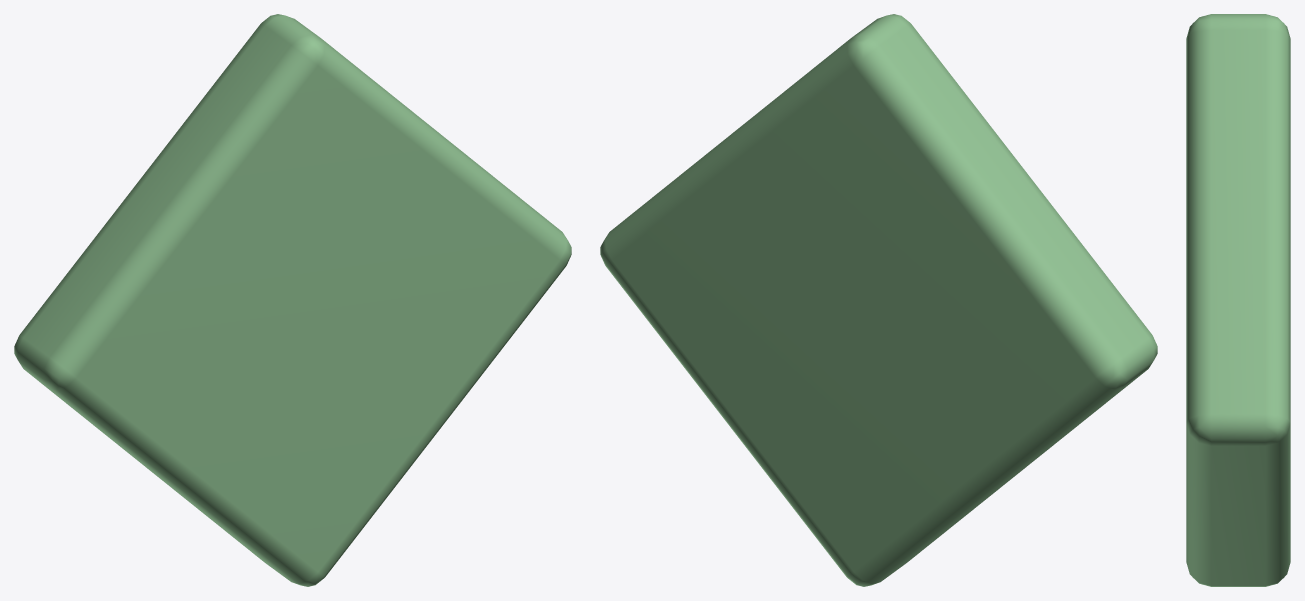
Rendered from shape-rhombus-green.glb.
3 renders of one model, left to right at view 1: azimuth 30°, elevation 25°; view 2: azimuth 150°, elevation 25°; view 3: azimuth 270°, elevation 25°, orthographic. The views are drawn at different scales.
Visible parts, largest first — view 1: solid rhombus; view 2: solid rhombus; view 3: solid rhombus.
Part boxes in pixels (x1,y1,x2,y2): solid rhombus: (14,14,571,586); solid rhombus: (600,14,1157,586); solid rhombus: (1186,14,1290,586).
Size of the model in its own units: 1.5 by 1.5 by 0.25.
